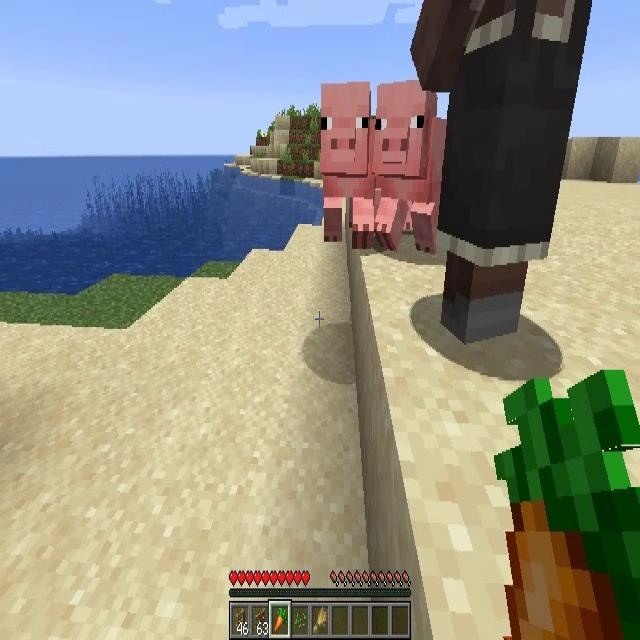people: (410, 0, 592, 341)
pig: (374, 81, 456, 247), (320, 81, 374, 241)
